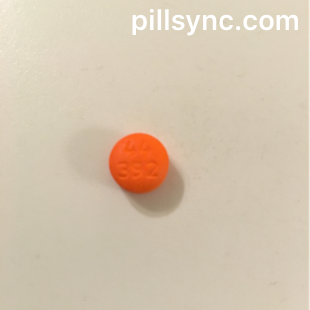Ibuprofen 200 MG Oral Tablet: (106, 129, 174, 198)
